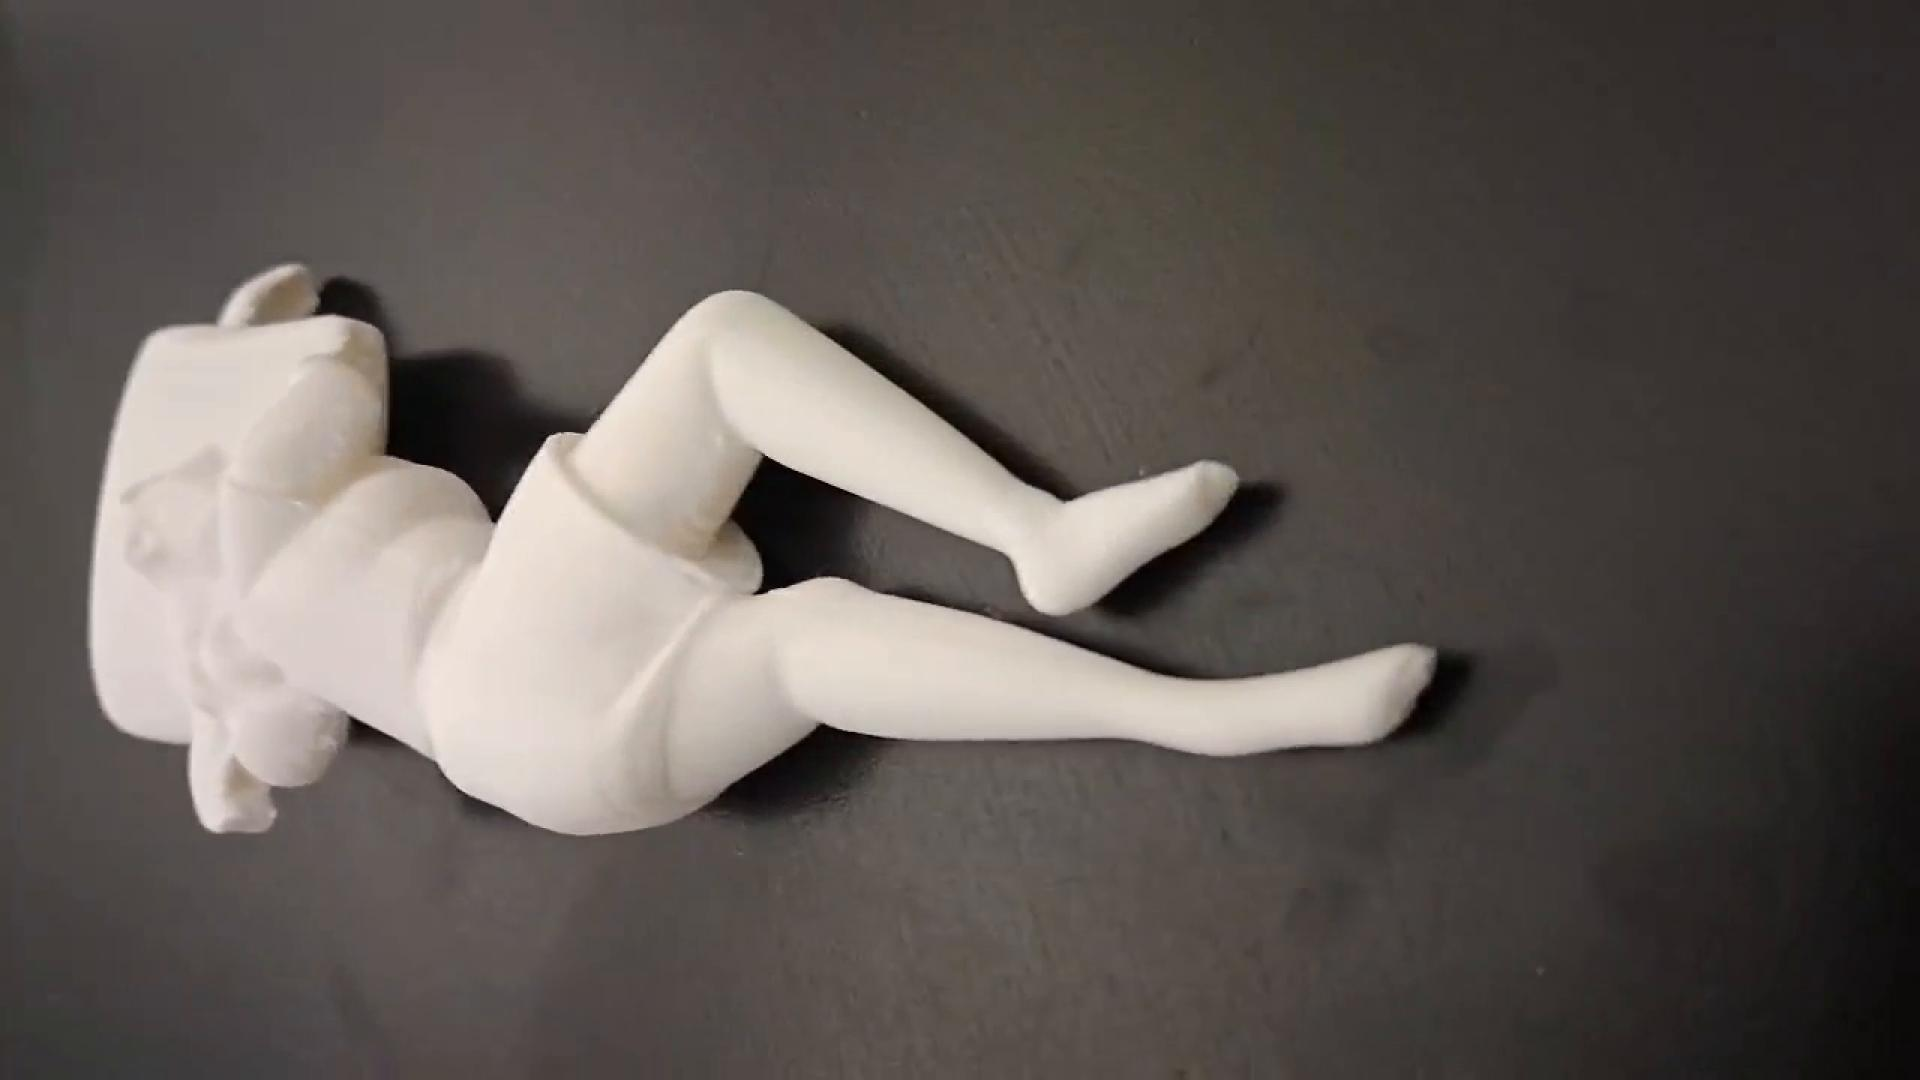Good-style: (45, 248, 1567, 866)
